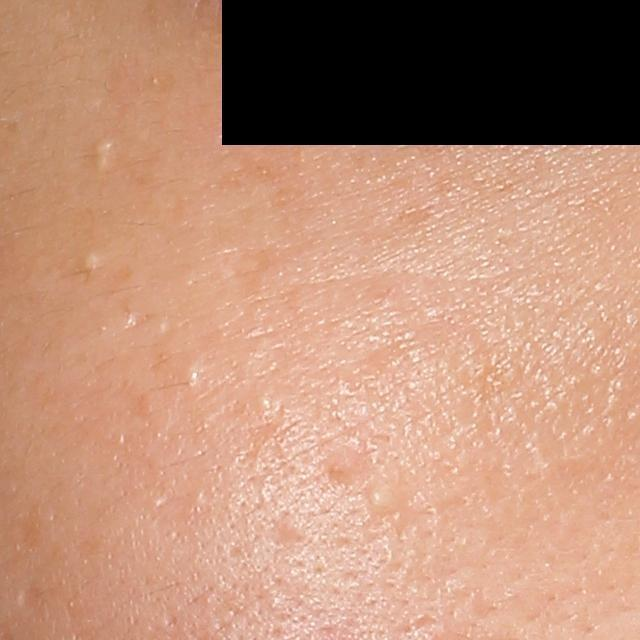atrophic_scar: (268, 512, 299, 557), (19, 586, 43, 612)
comedo: (74, 242, 107, 278), (370, 484, 406, 513), (93, 136, 116, 171)
